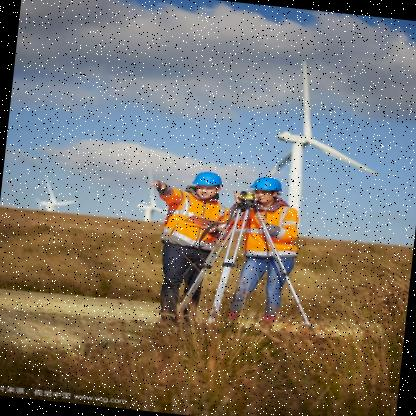capacete: (245, 173, 286, 205), (188, 168, 225, 203)
colete_refletivo: (160, 190, 228, 250), (240, 201, 302, 259)
